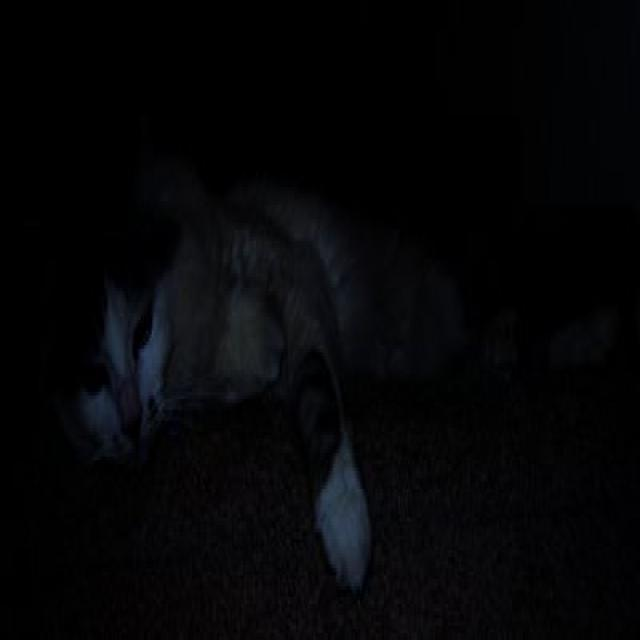Cat: (40, 116, 615, 609)
